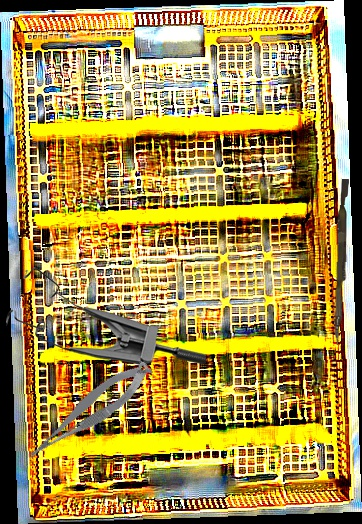Micro Scissor: (15, 355, 161, 466)
Pusher: (334, 178, 349, 346)
Speculum: (6, 266, 206, 367)
